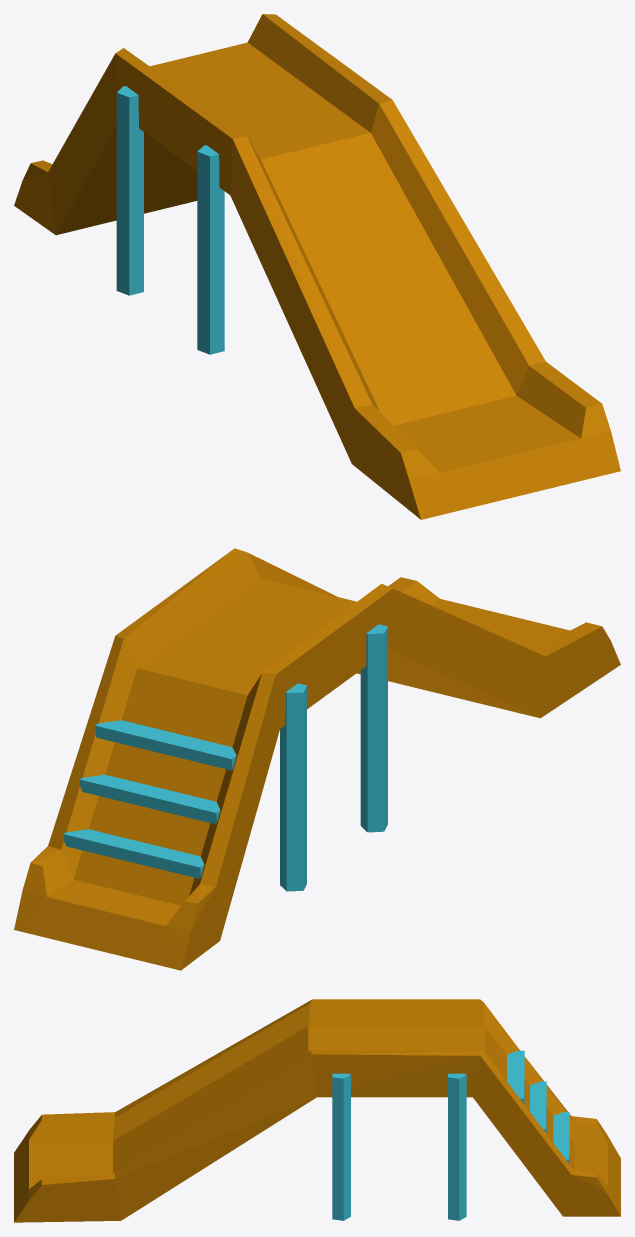
The model's file is Child Slide 1.fbx.
3 views of the same model, one above another, from view 1: azimuth 30°, elevation 25°; view 2: azimuth 150°, elevation 25°; view 3: azimuth 270°, elevation 25° (orthographic). The views are drawn at different scales.
Parts seen in each view (by area): view 1: Child_Slide_01; view 2: Child_Slide_01; view 3: Child_Slide_01.
Boxes of the visible parts, x1,y1,x2,y2 form: Child_Slide_01: [14, 14, 620, 519]; Child_Slide_01: [14, 548, 620, 970]; Child_Slide_01: [14, 999, 620, 1222].
Size of the model in its own units: 55.22 by 58.82 by 201.
